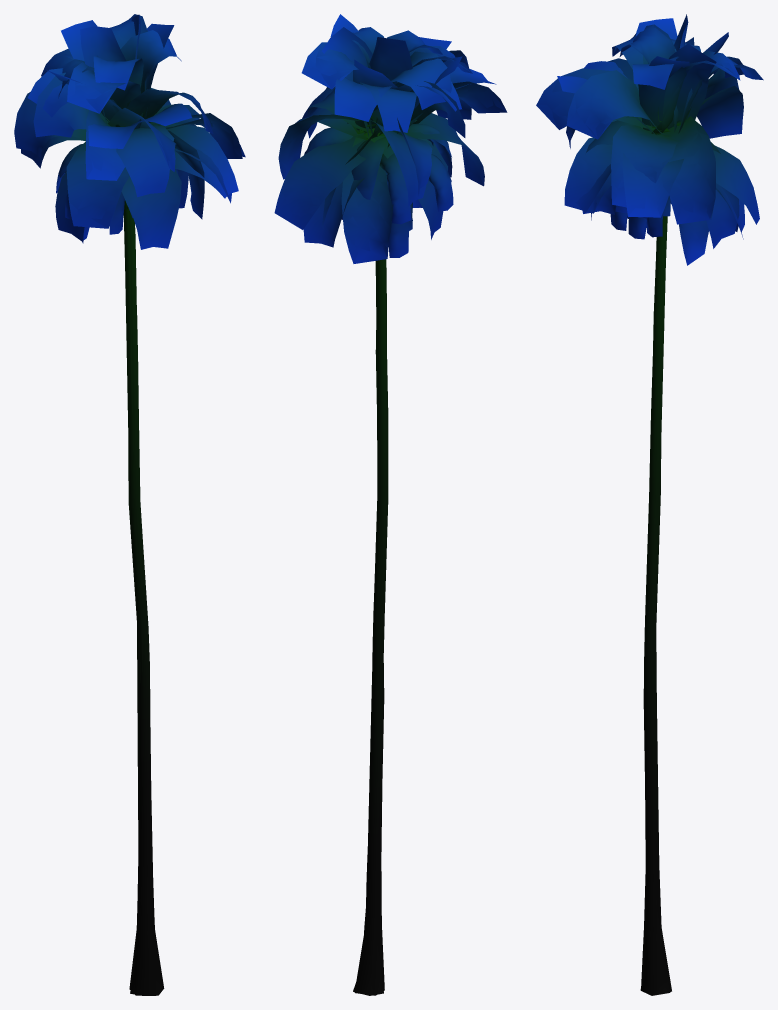
Rendered from MSH_Mexican_Palm_C.FBX.
The picture shows the model from 3 angles, left to right: view 1: azimuth 30°, elevation 25°; view 2: azimuth 150°, elevation 25°; view 3: azimuth 270°, elevation 25°; orthographic projection. The views are drawn at different scales.
Parts seen in each view (by area): view 1: MexicanFanPalm_C_LOD0_GEO, MexicanFanPalm_C_LOD2_GEO, MexicanFanPalm_C_LOD1_GEO; view 2: MexicanFanPalm_C_LOD0_GEO, MexicanFanPalm_C_LOD2_GEO, MexicanFanPalm_C_LOD1_GEO; view 3: MexicanFanPalm_C_LOD0_GEO, MexicanFanPalm_C_LOD2_GEO, MexicanFanPalm_C_LOD1_GEO.
Part boxes in pixels (bbox=[...]): MexicanFanPalm_C_LOD0_GEO: bbox=[14, 14, 245, 995]; MexicanFanPalm_C_LOD2_GEO: bbox=[67, 16, 245, 995]; MexicanFanPalm_C_LOD1_GEO: bbox=[129, 209, 150, 926]; MexicanFanPalm_C_LOD0_GEO: bbox=[274, 14, 506, 995]; MexicanFanPalm_C_LOD2_GEO: bbox=[275, 42, 506, 995]; MexicanFanPalm_C_LOD1_GEO: bbox=[355, 260, 387, 995]; MexicanFanPalm_C_LOD0_GEO: bbox=[536, 14, 763, 995]; MexicanFanPalm_C_LOD2_GEO: bbox=[536, 25, 759, 995]; MexicanFanPalm_C_LOD1_GEO: bbox=[644, 216, 671, 991].
Size of the model in its own units: 363 by 1769 by 384.
